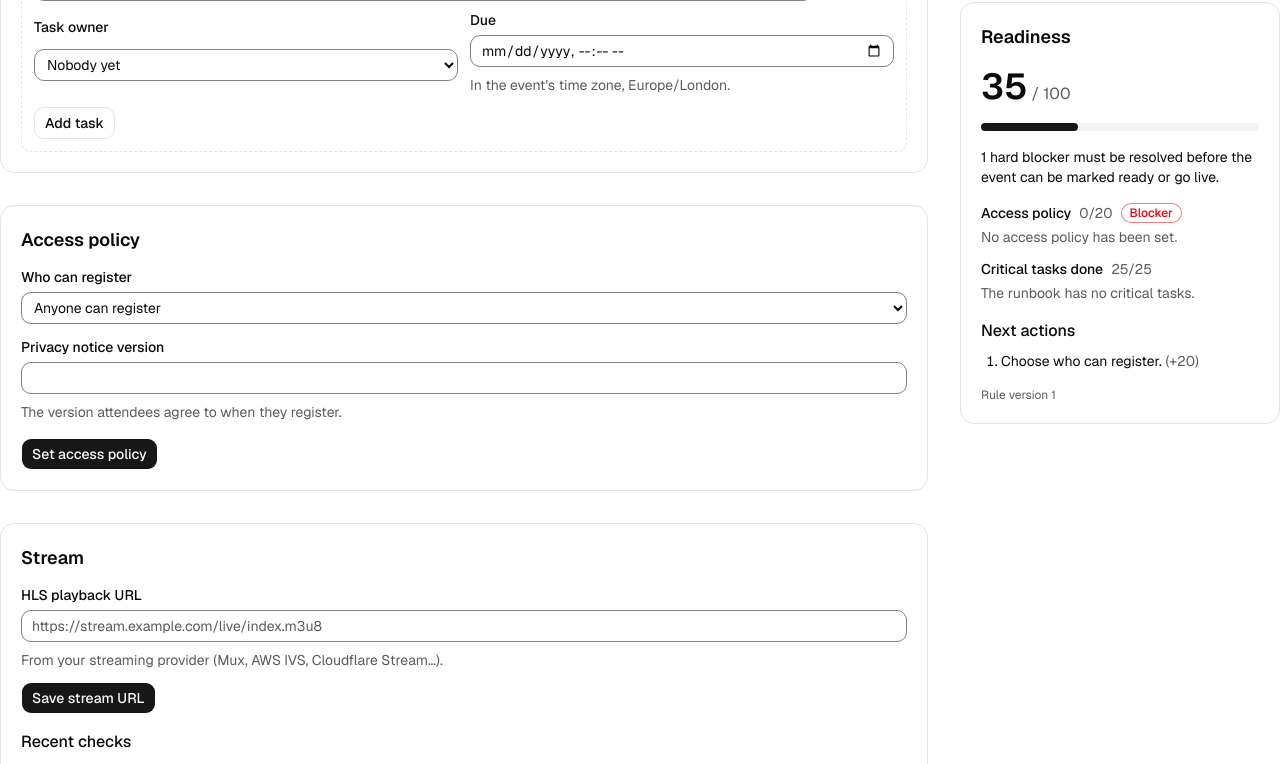
Test: LaunchControlPage › creates the access policy without a version, then saves with one
Later steps or results of the test are not shown.
(page scrolled)
Type "2026-11" into the field labelled "Privacy notice version" at (464, 378), box [21,362,907,394]
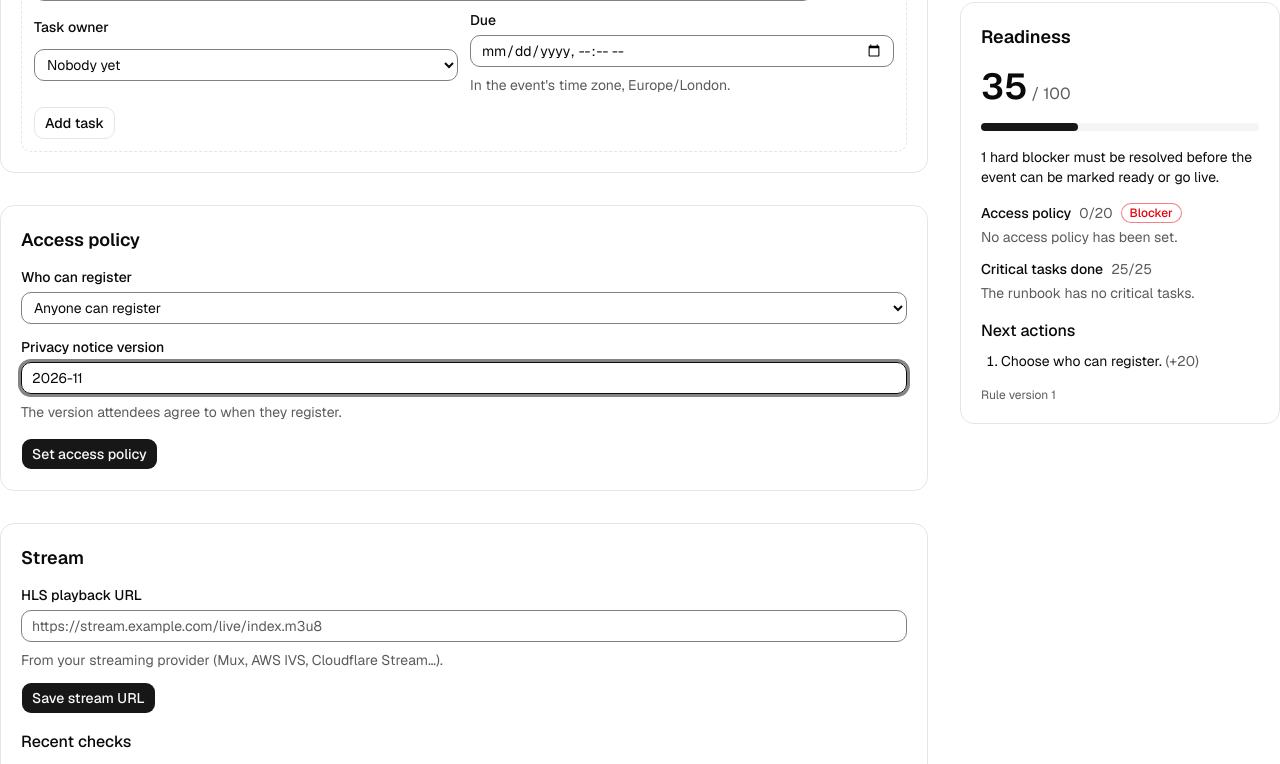
Click the button "Set access policy" at (89, 454), box [21,438,158,470]
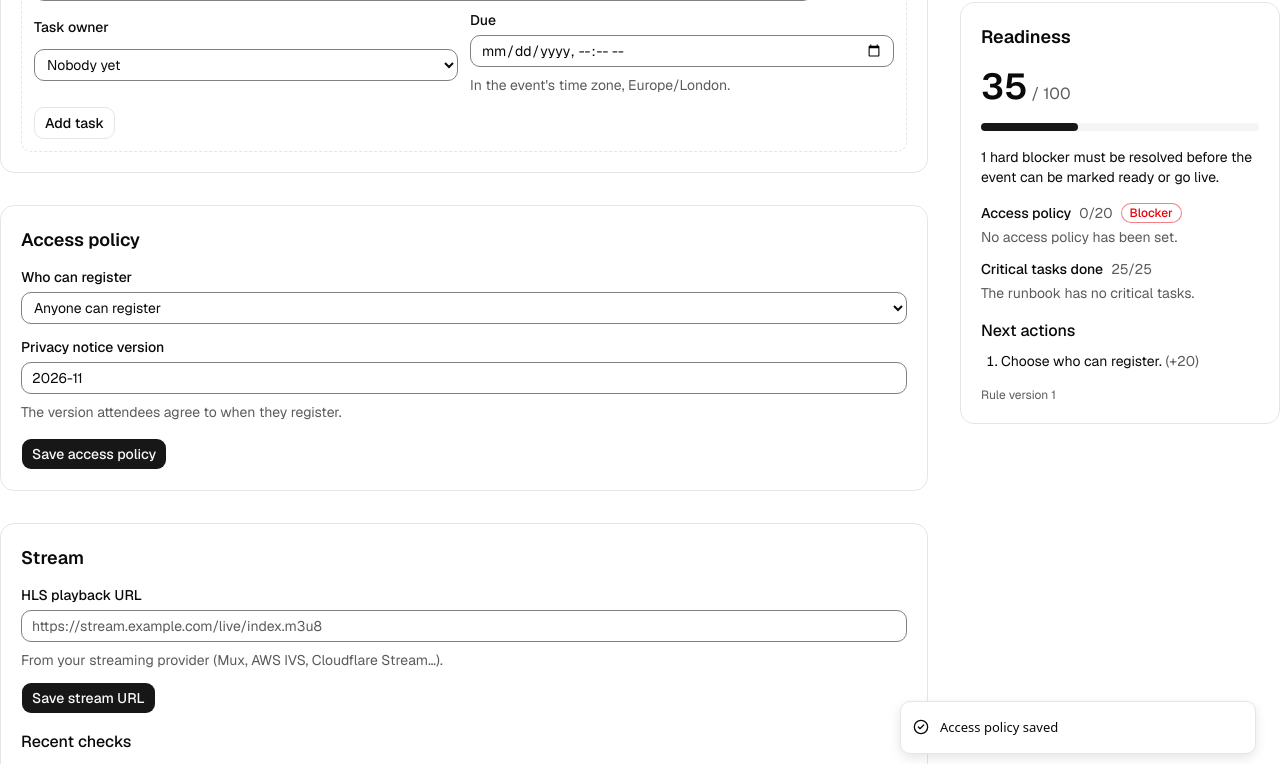
Expected: the field labelled "Privacy notice version" holds "2026-11", [21,362,907,394]
Now the button "Save access policy" is shown, box [21,438,167,470]
